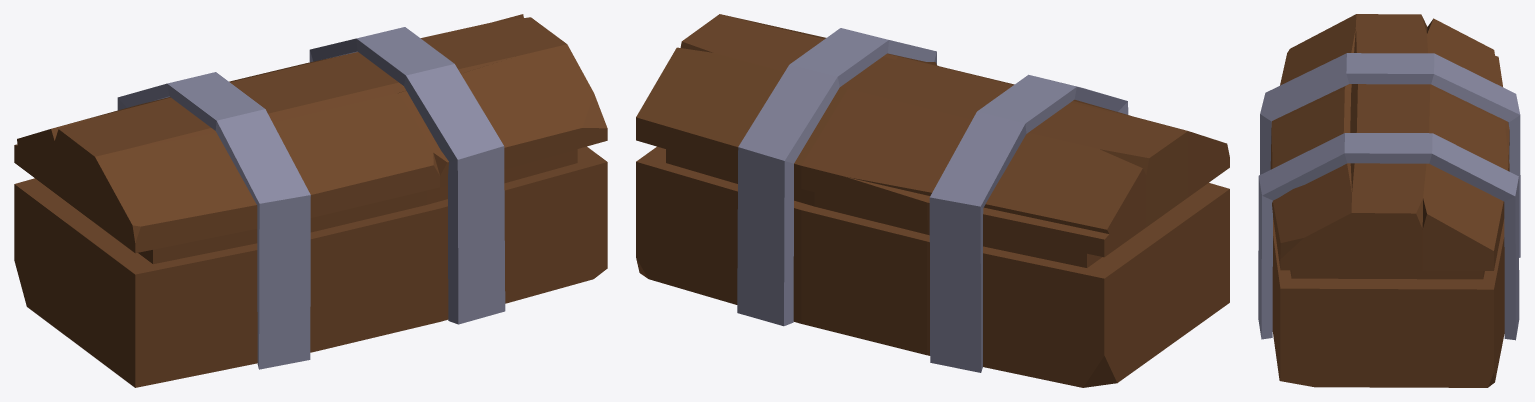
The model's file is BigChest.fbx.
The picture shows the model from 3 angles, left to right: view 1: azimuth 30°, elevation 25°; view 2: azimuth 150°, elevation 25°; view 3: azimuth 270°, elevation 25°; orthographic projection. The views are drawn at different scales.
Visible parts, largest first — view 1: Plane.001, Plane.002; view 2: Plane.001, Plane.002; view 3: Plane.001, Plane.002.
Part boxes in pixels (x1,y1,x2,y2): Plane.001: (14, 14, 607, 387); Plane.002: (117, 27, 505, 369); Plane.001: (636, 14, 1229, 387); Plane.002: (737, 28, 1128, 372); Plane.001: (1270, 14, 1509, 387); Plane.002: (1258, 53, 1520, 340).
Bounding box in the file's own units: 443 × 191 × 246.
